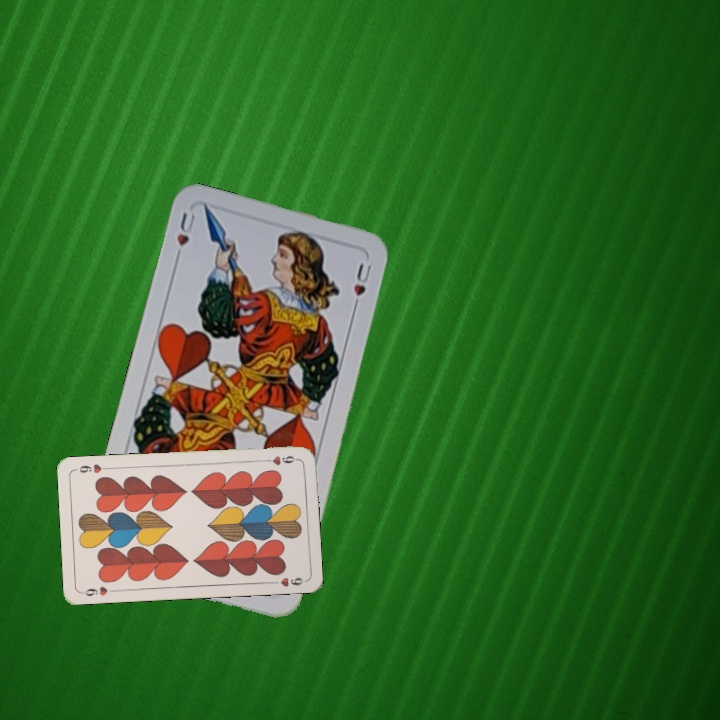H9: (78, 582, 118, 599), (260, 452, 300, 468)
HU: (170, 207, 198, 265)
